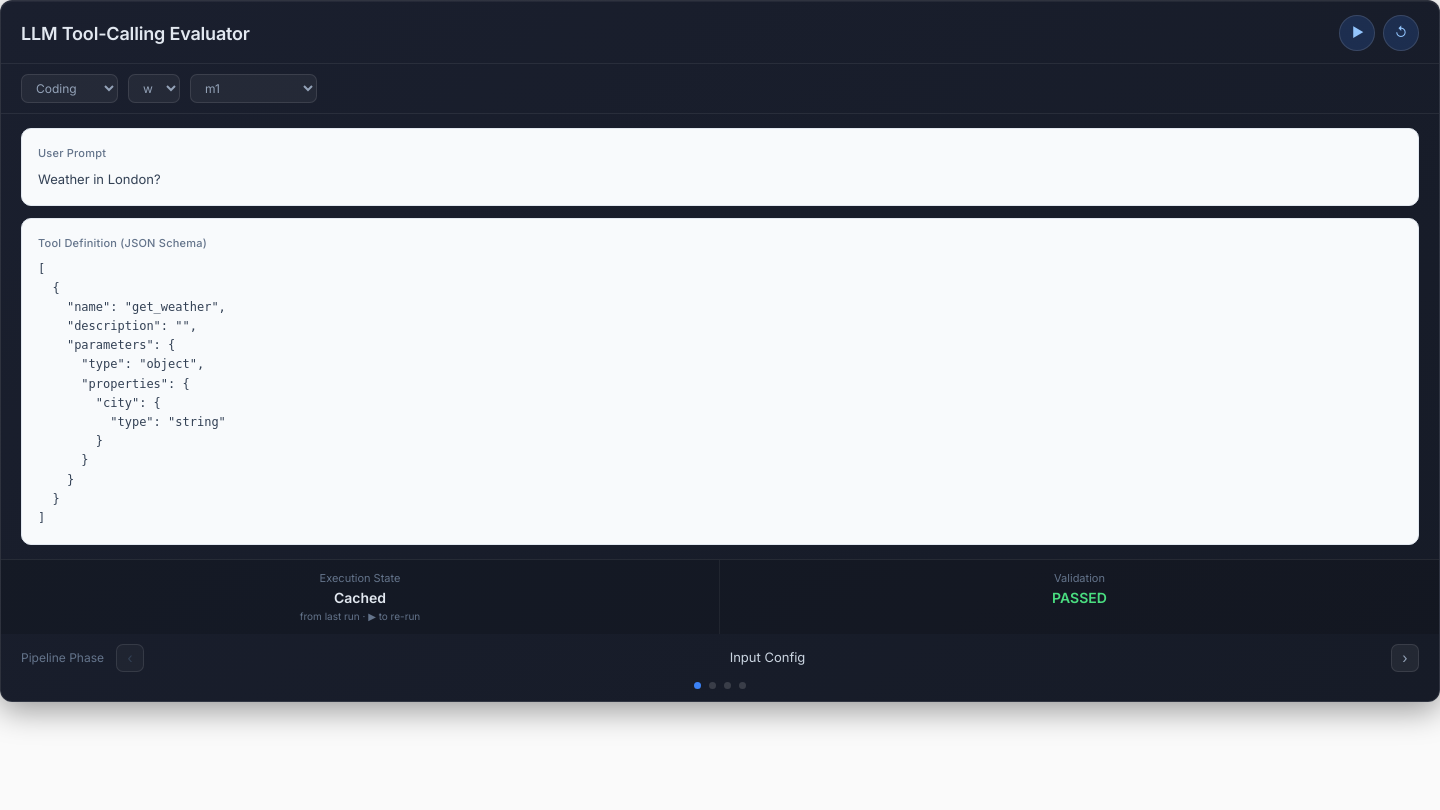
Test: PipelinePanel › shows a cached trace on handoff WITHOUT re-running inference
Check: the text with test id "pipeline-exec-state" reads "Cached", box [334,589,386,606]
Check: the text with test id "pipeline-validation" reads "PASSED", box [1052,589,1107,606]
# The real raw output is reachable by stepping to the Stream phase.
Click the button with test id "pipeline-next" at {"x": 1405, "y": 658}, box [1391,644,1419,672]
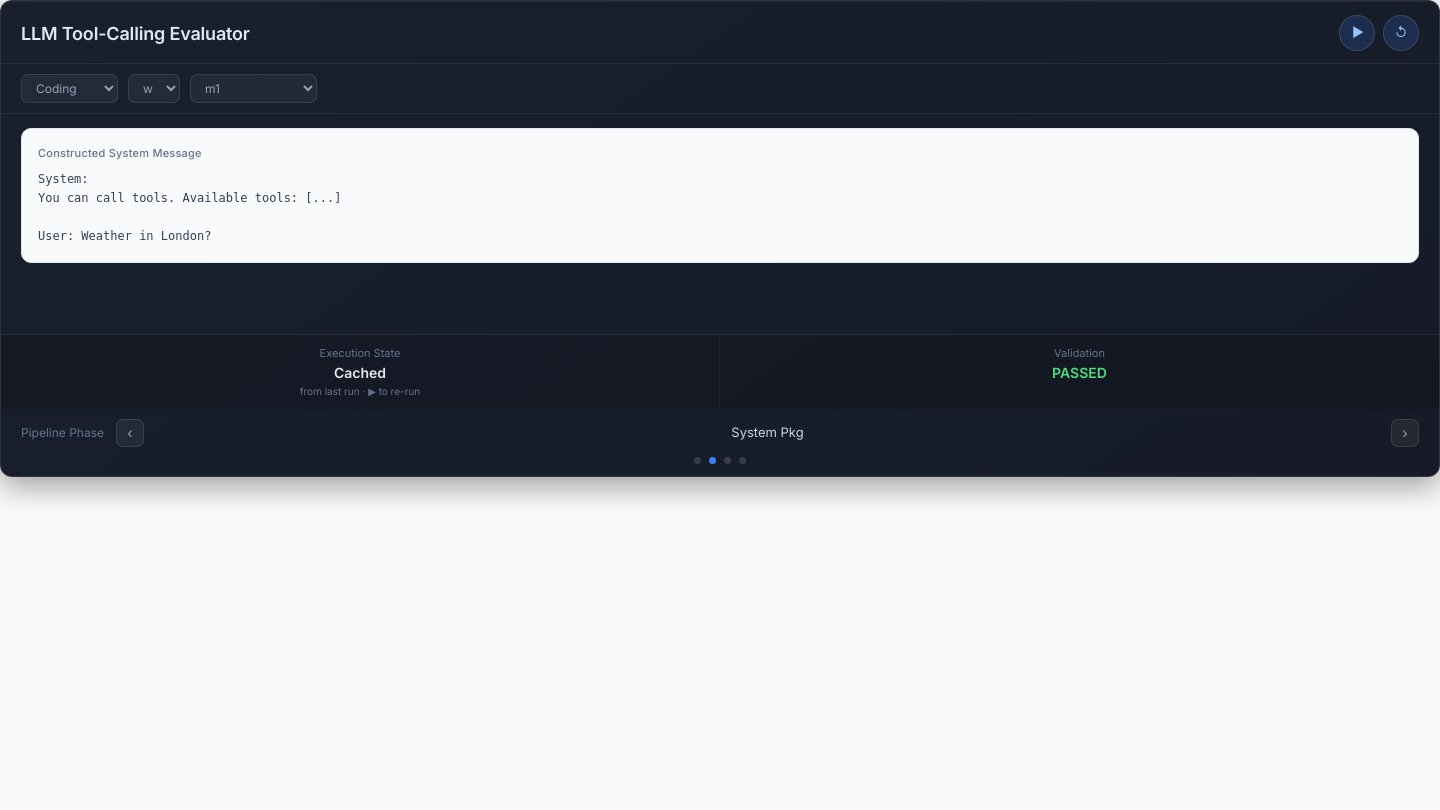
Click the button with test id "pipeline-next" at {"x": 1405, "y": 432}, box [1391,418,1419,446]
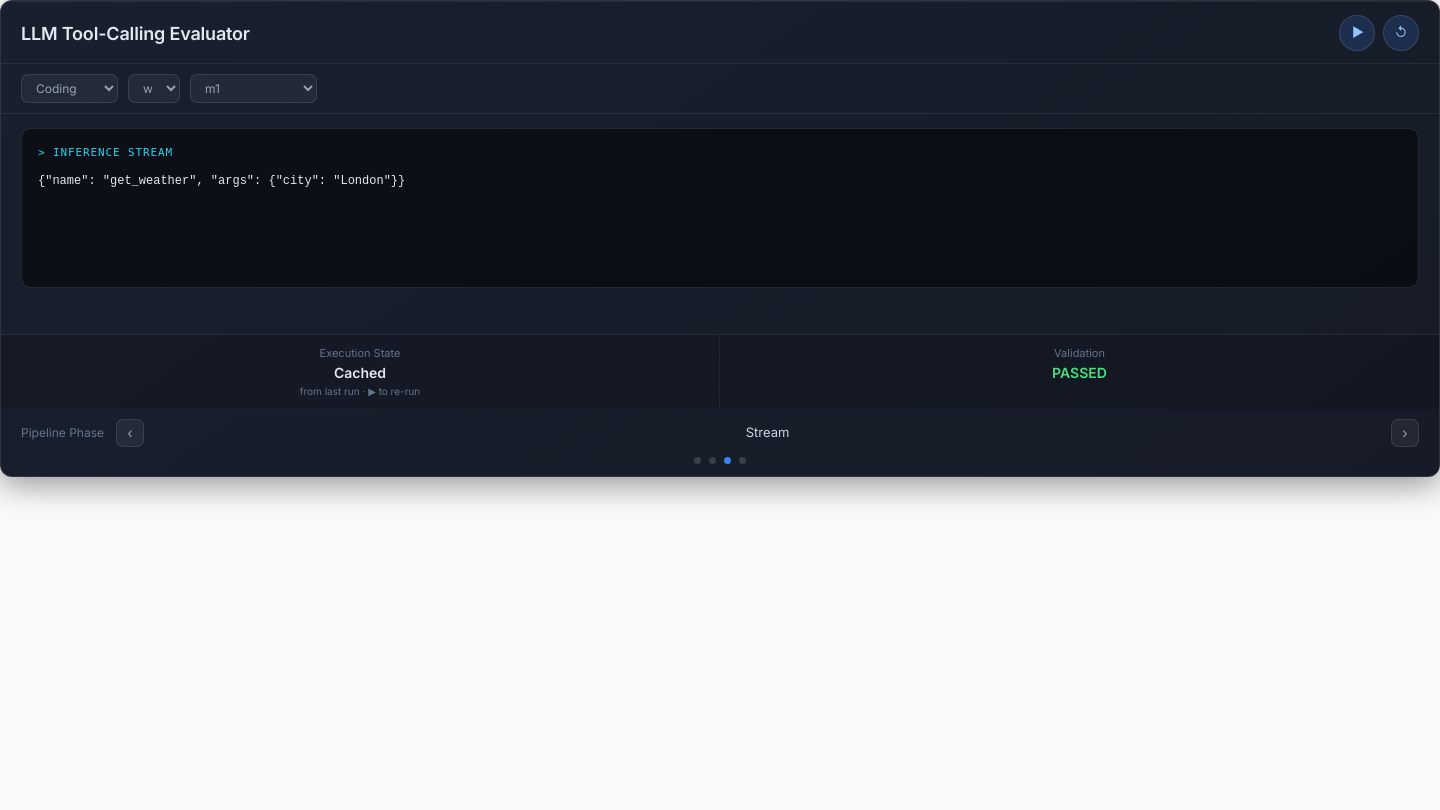
Check: the element with test id "pipeline-stream" shows "\"name\": \"get_weather\"", box [38,174,405,188]
